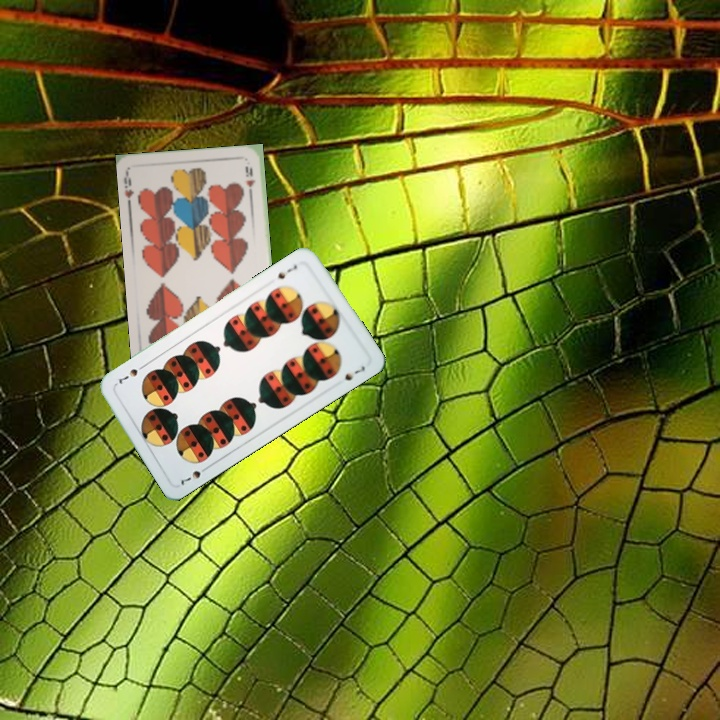H9: (120, 169, 136, 209)
S7: (176, 462, 212, 489), (274, 260, 300, 282)
